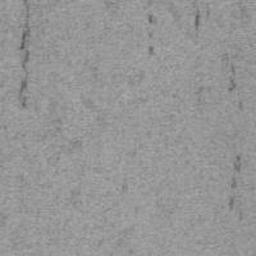Inclusion: (17, 0, 36, 110), (228, 155, 243, 211), (147, 14, 159, 56), (227, 64, 238, 93), (193, 8, 202, 28)
